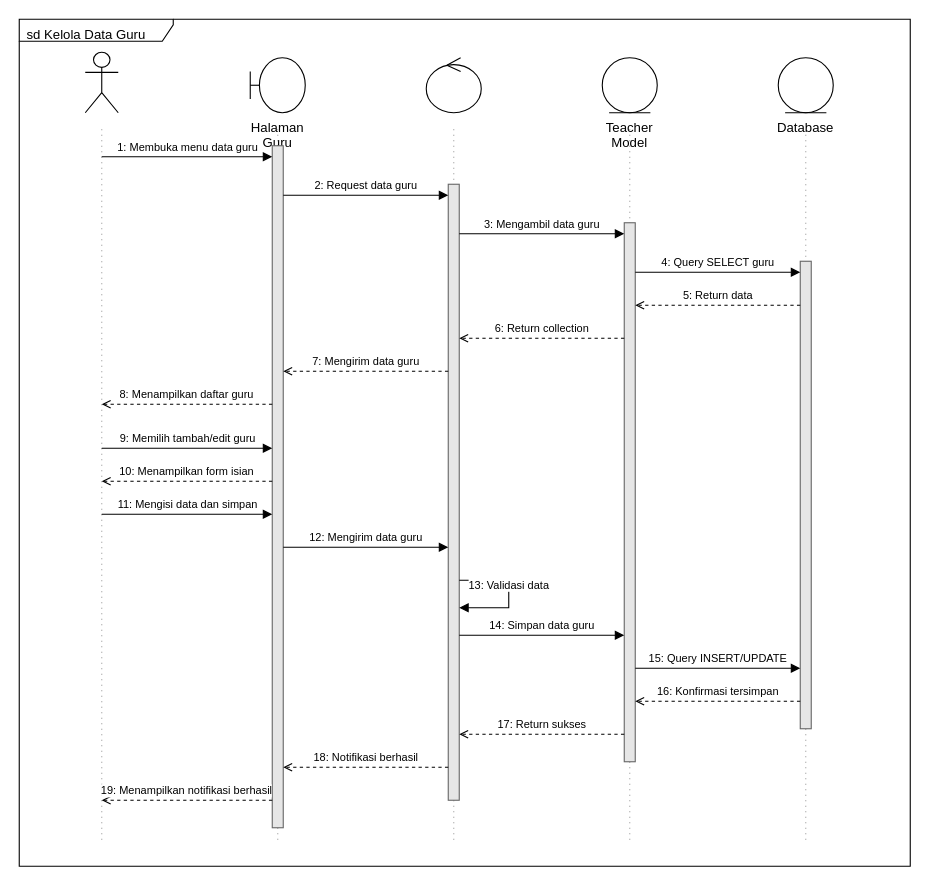
The diagram is 930 pixels wide and 886 high, and some of its shapes have lost their labels. Here are the shapes that lost their labels. From the top down, the centre of each, then its label:
At point (101, 82): "Admin".
At point (453, 85): "TeacherController".
